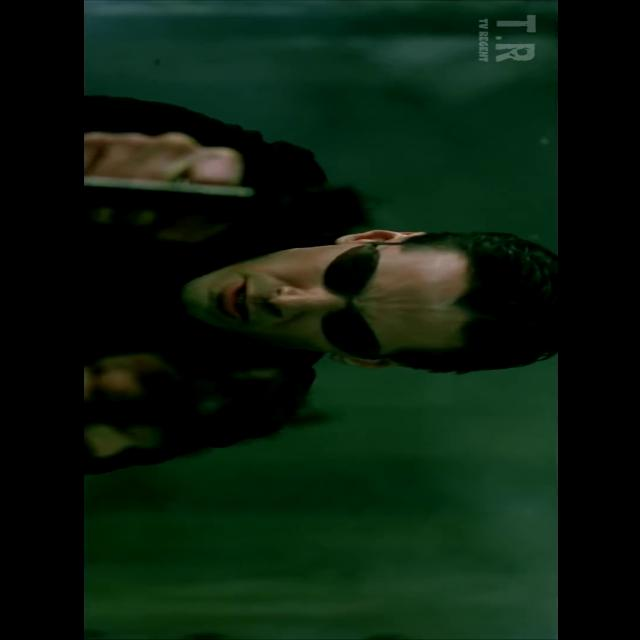long weapon: (51, 352, 328, 460), (79, 160, 397, 252)
